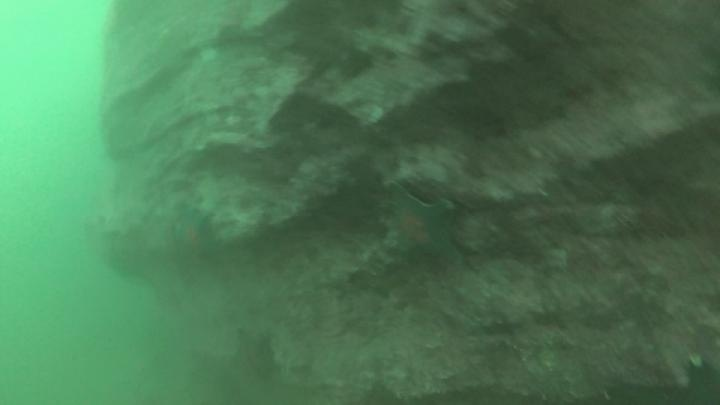starfish: (379, 181, 461, 269), (167, 203, 223, 270), (228, 326, 279, 384), (679, 355, 720, 405)
